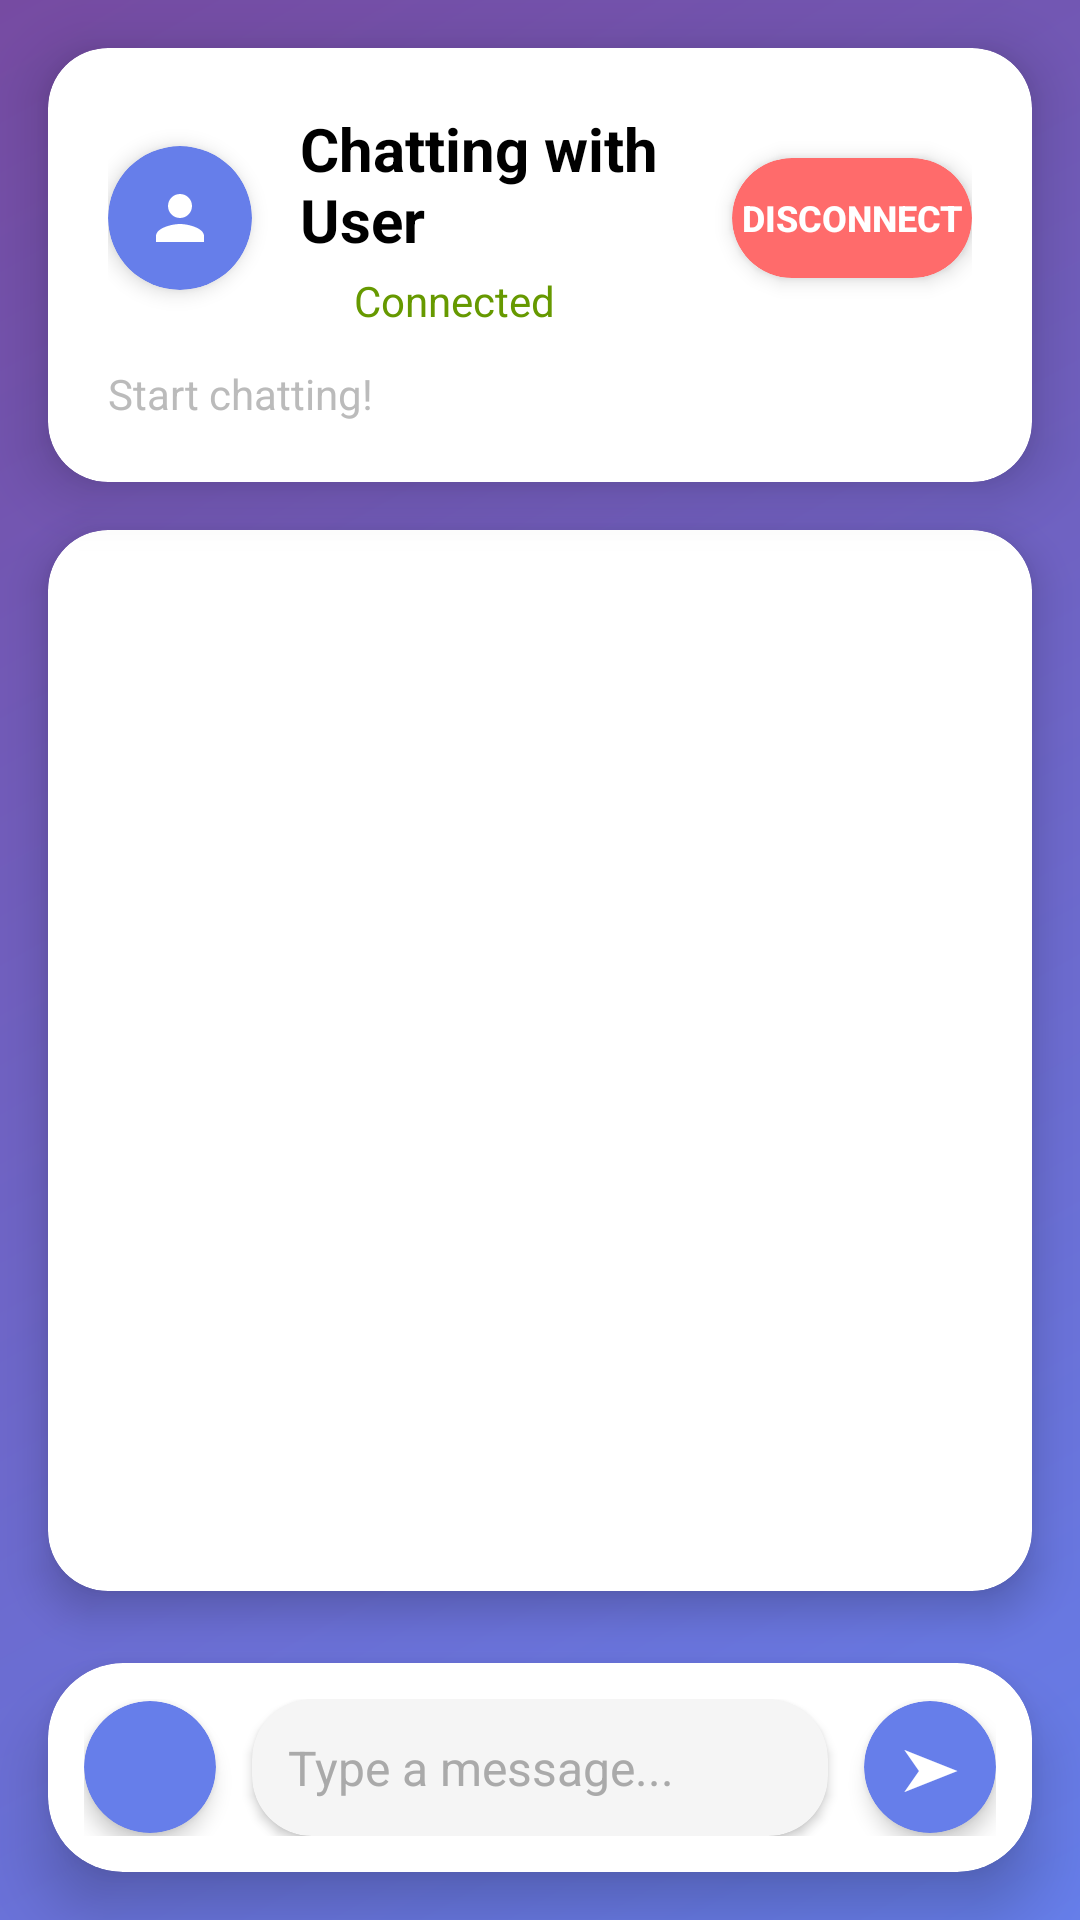

Point at icon controls on the screen. Image size 1080 x 1920, points as (x,y).
person: (180,218)
